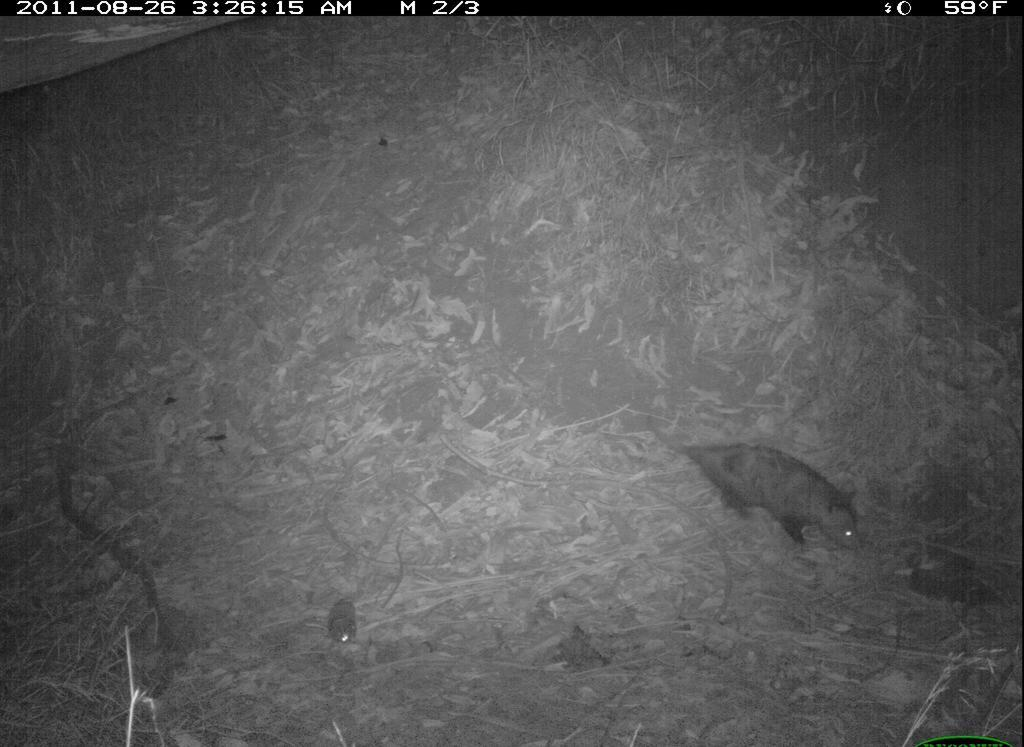opossum: (644, 413, 873, 560)
